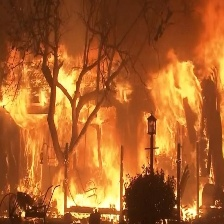fire: (2, 32, 224, 222)
